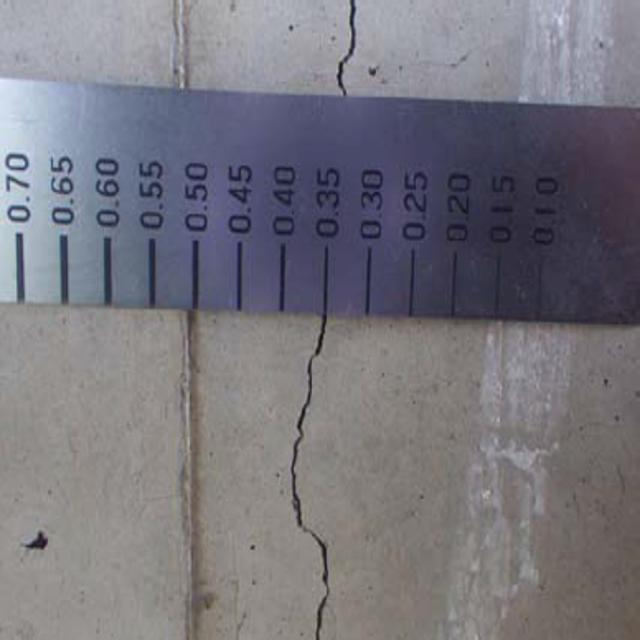crack: (279, 320, 344, 640), (322, 1, 377, 106)
